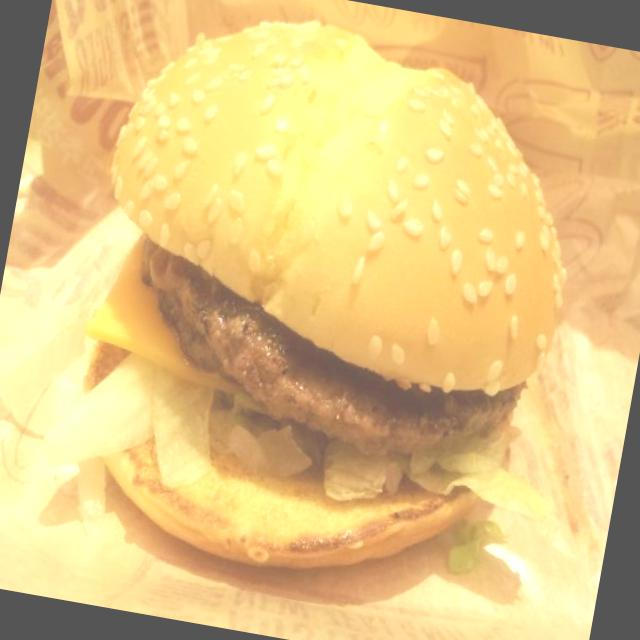Hamburger: (40, 0, 606, 620)
